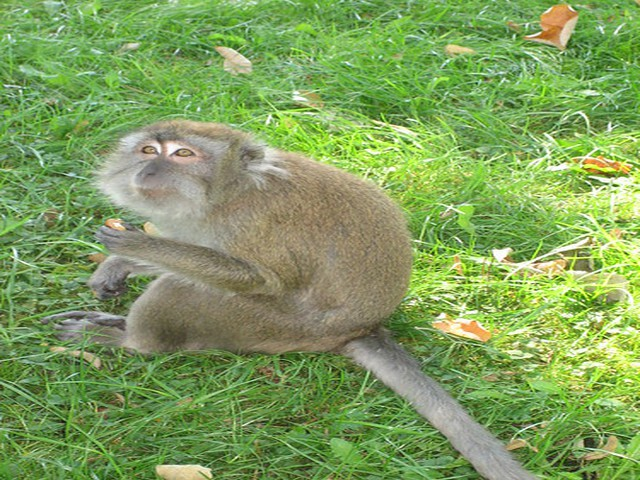Monkey: (51, 118, 446, 372)
